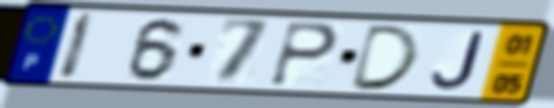6: (126, 16, 188, 83)
7: (217, 16, 271, 88)
D: (345, 23, 423, 93)
I: (55, 10, 99, 82)
J: (428, 30, 487, 92)
P: (265, 20, 342, 89)
